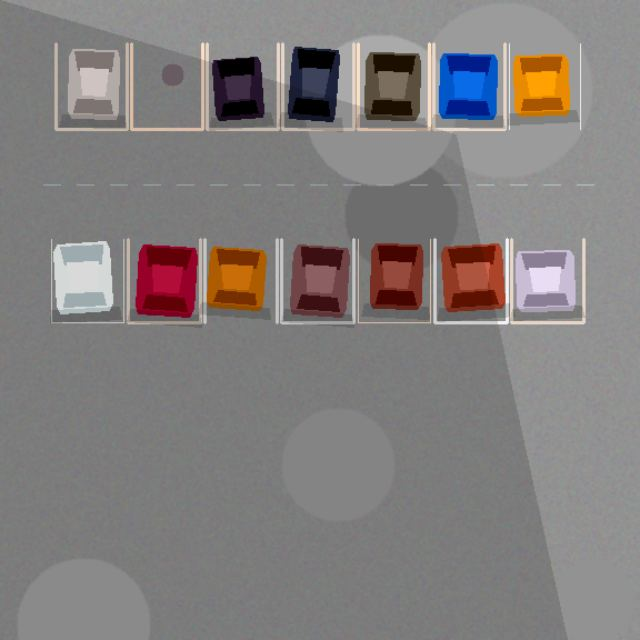space-empty: (131, 43, 202, 129)
space-occupied: (56, 43, 127, 129), (207, 43, 278, 129), (282, 43, 353, 129), (358, 43, 429, 129), (433, 43, 504, 129), (509, 43, 580, 129), (204, 239, 277, 322), (434, 239, 507, 322), (51, 239, 123, 322), (128, 239, 200, 322), (281, 239, 353, 322), (358, 239, 430, 322), (511, 239, 583, 322)
